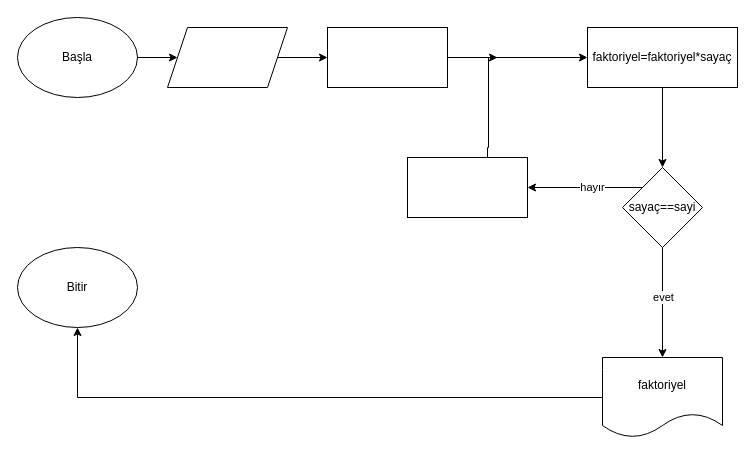
Some shapes in this 755 by 455 pixel diagram are drawn without their labels. The shapes that lost their labels are listed below. From the top down, each one's box as (x1, y1, x2, y2) in pixels, then its label:
(166, 26, 288, 88): sayi=44
(326, 26, 448, 88): sayaç =1 faktoriyel=1
(406, 156, 528, 218): sayaç++
